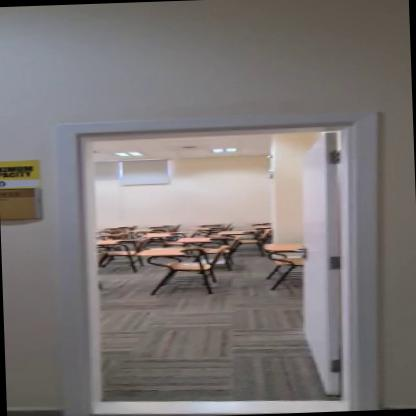open: (47, 98, 385, 415)
